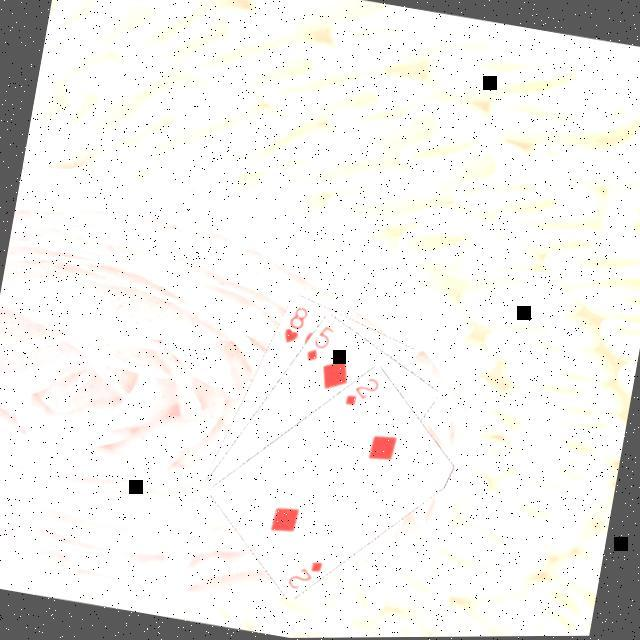2D: (341, 372, 385, 414), (284, 555, 328, 597)
5D: (303, 321, 340, 370)
8H: (280, 302, 313, 351)
